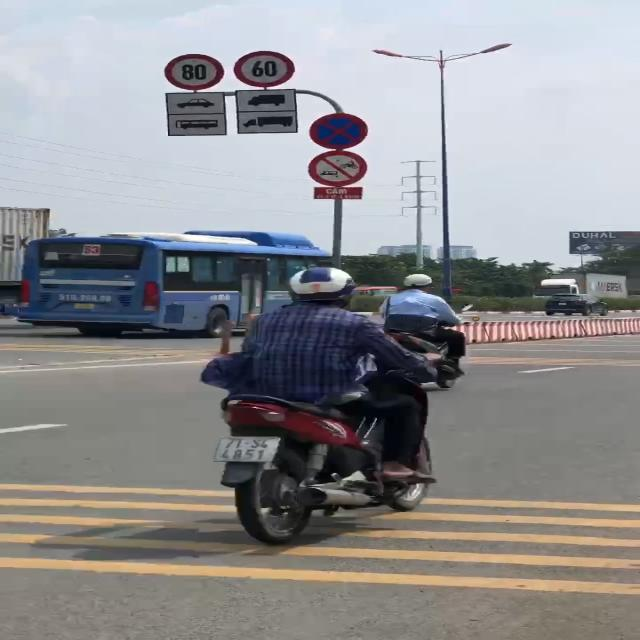Bien bao cam dung xe va do xe: (302, 110, 376, 151)
Bien bao toc do toi da cho phep: (232, 49, 306, 89), (158, 52, 230, 93)
